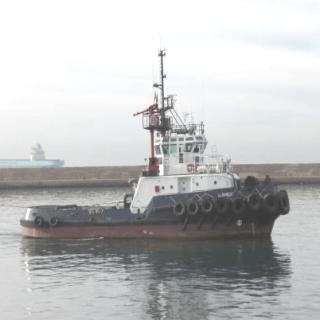Tug Boat: (17, 36, 290, 240)
